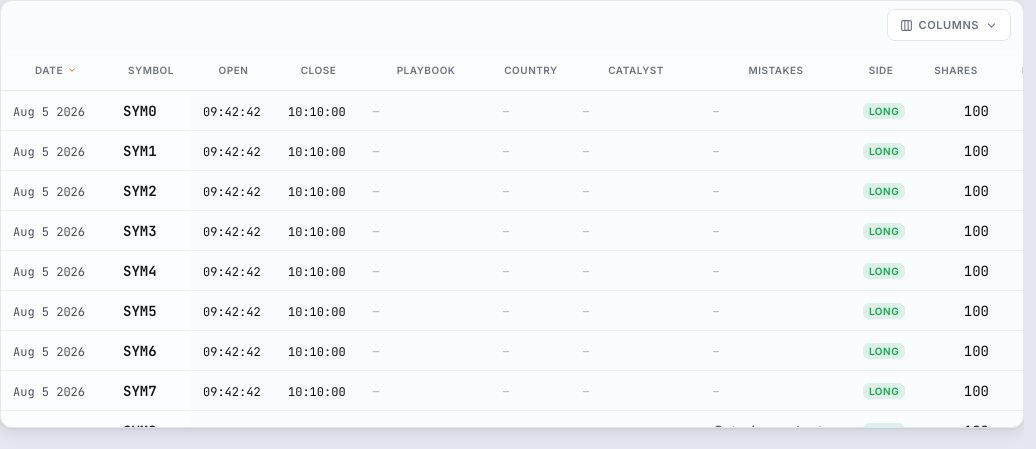
Test case: T1/T2 the reported sequence › and no row keeps a value from a column the header no longer has
Click the button with test id "columns-button".
click(949, 25)  # box [887,9,1011,41]
(page scrolled)
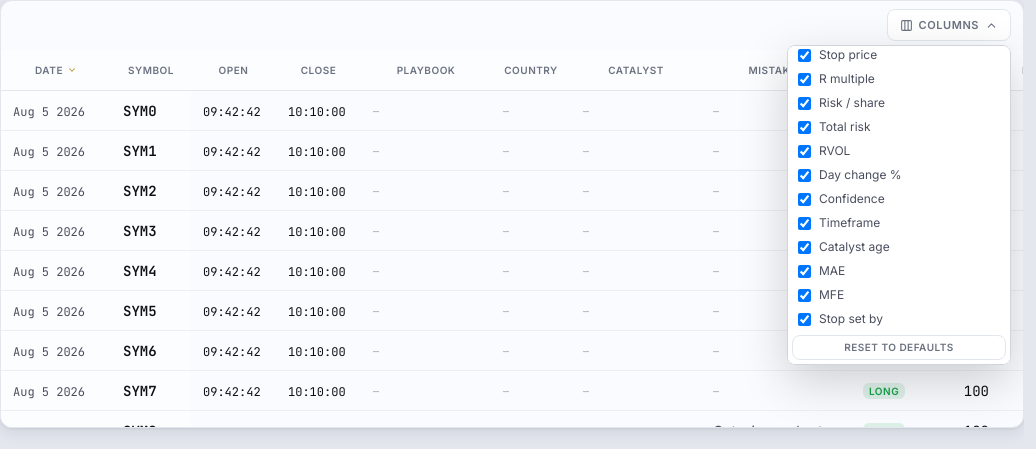
Click the button with test id "columns-reset".
click(899, 348)  # box [792,335,1006,360]
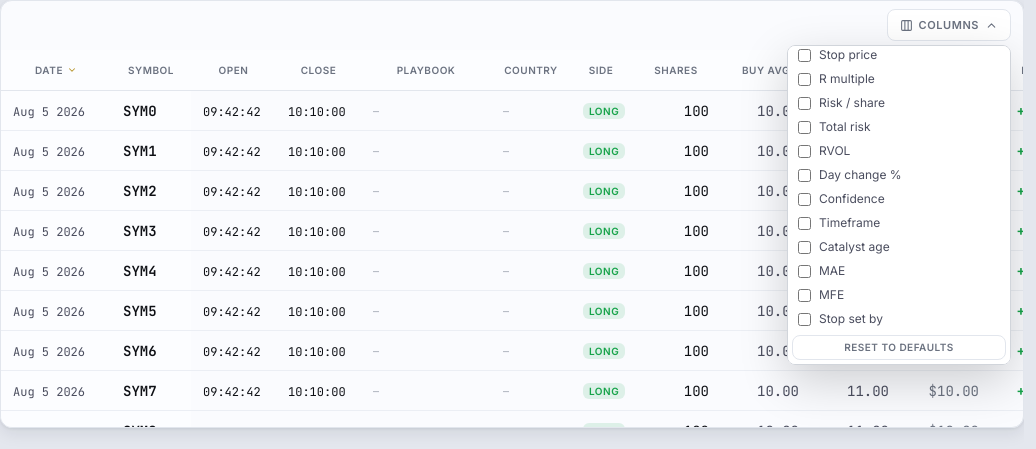
Expected: the text "Cut winner short" is gone
